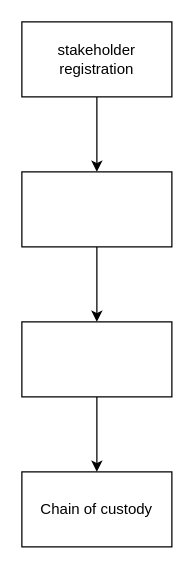
The diagram is 194 pixels wide and 569 high, and some of its shapes have lost their labels. Each missing label, with the centre of its shape:
Access Control: the point at 96,359
Registering DF case over blockchain and IPF: the point at 96,209
